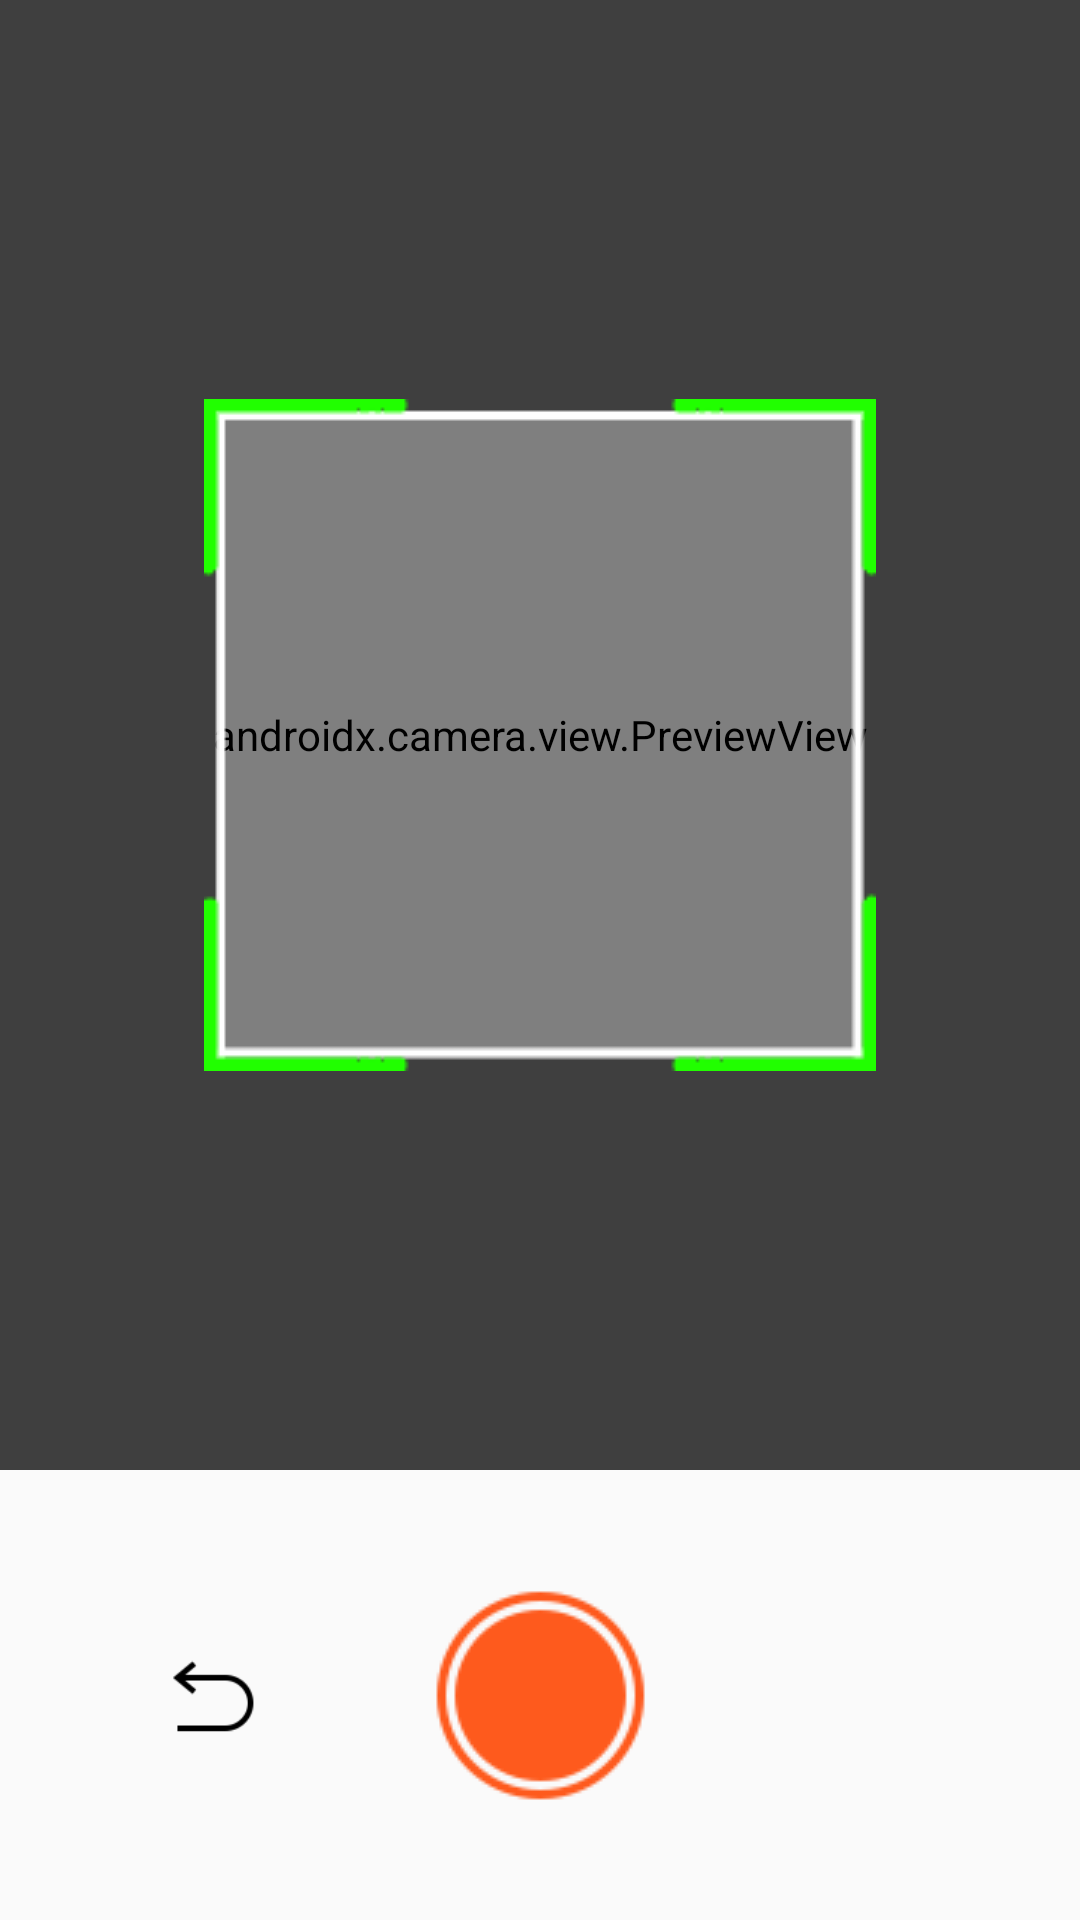

Named icons in this screenshot (1080px×1920px) and their centers, (x,y):
return: (213,1696)
